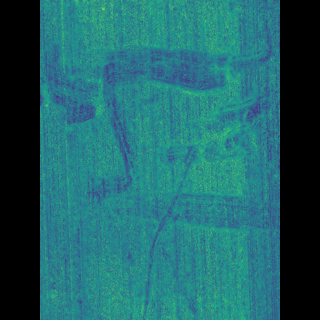Loch: (69, 37, 146, 208), (137, 145, 190, 319), (109, 32, 248, 98), (159, 92, 242, 177)
